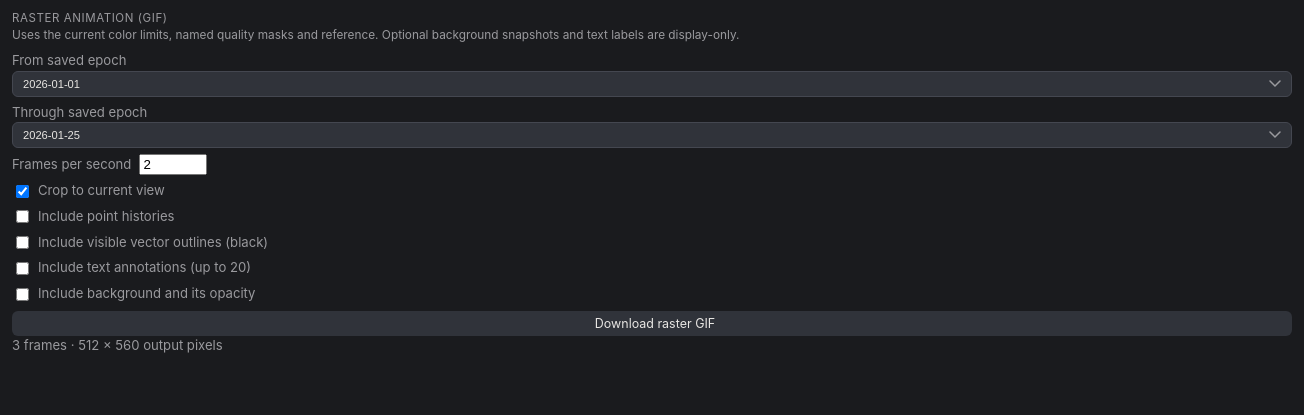
Test: vector outline limits › names a layer with more than 100 features and sends nothing
Expected: the button "Download raster GIF" is enabled, [12,311,1292,336]
Click the checkbox named "Include vector outlines in GIF" at (22,243), box [16,236,29,249]
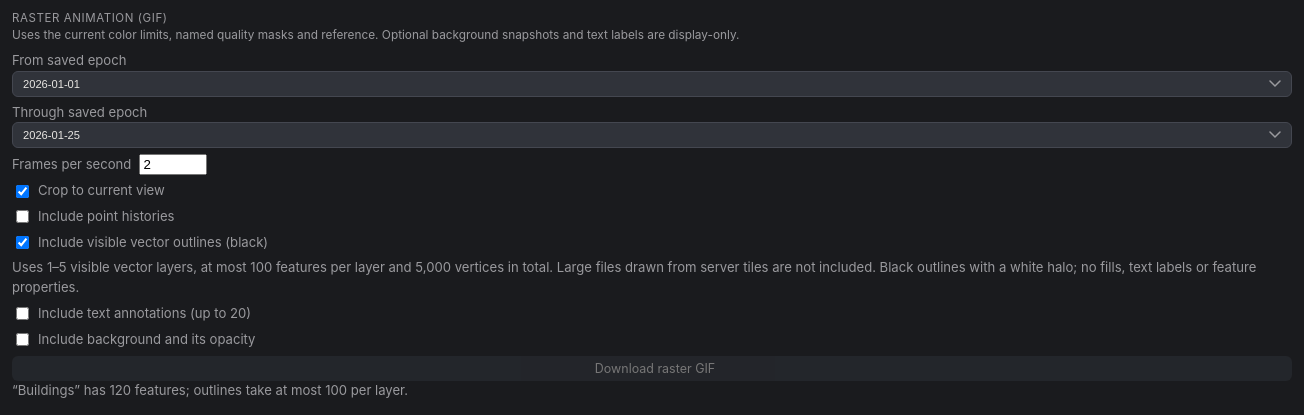
Expected: the message reads "“Buildings” has 120 features; outlines take at most 100 per layer.", [12,382,408,398]
Expected: the button "Download raster GIF" is disabled, [12,356,1292,381]
